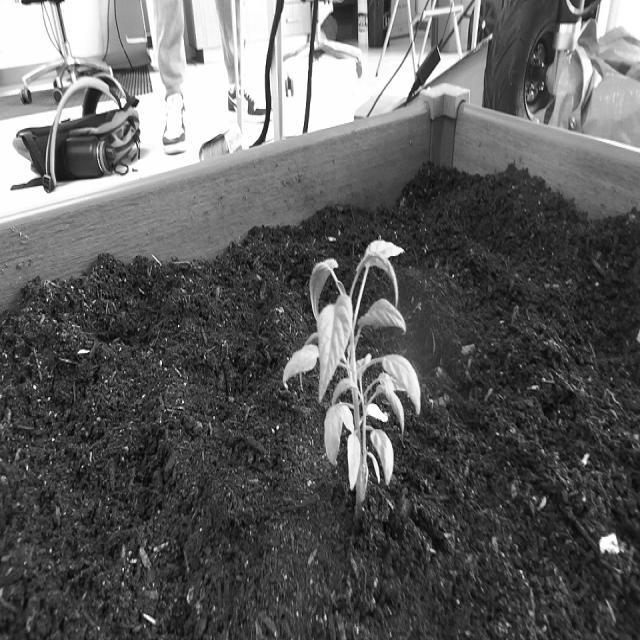Healthy: (281, 233, 424, 537)
